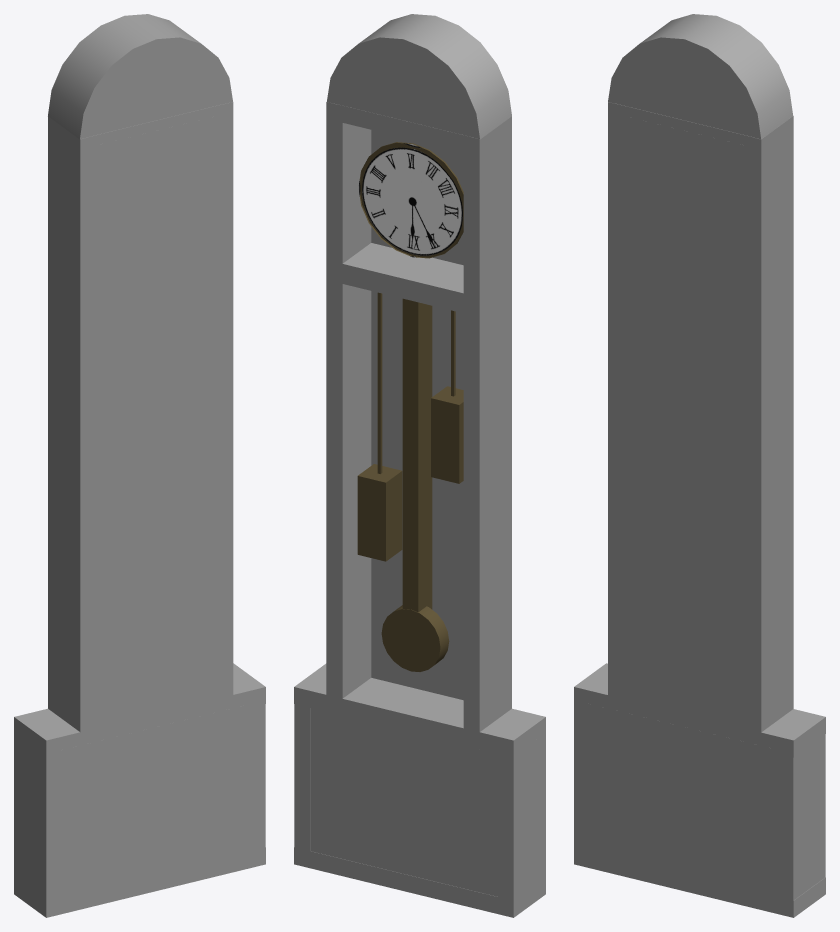
Rendered from grandfather_clock.fbx.
The picture shows the model from 3 angles, left to right: view 1: azimuth 30°, elevation 25°; view 2: azimuth 150°, elevation 25°; view 3: azimuth 330°, elevation 25°; orthographic projection.
Visible parts, largest first — view 1: pCube16; view 2: pCube16, pCylinder4, pCylinder2; view 3: pCube16.
Boxes of the visible parts, bbox=[...] form: pCube16: bbox=[14, 14, 265, 917]; pCube16: bbox=[294, 14, 545, 917]; pCylinder4: bbox=[357, 292, 463, 671]; pCylinder2: bbox=[358, 142, 463, 258]; pCube16: bbox=[574, 14, 825, 917].
Size of the model in its own units: 1.07 by 3.98 by 0.2735.
Materials: 3 (1 with a texture image).
